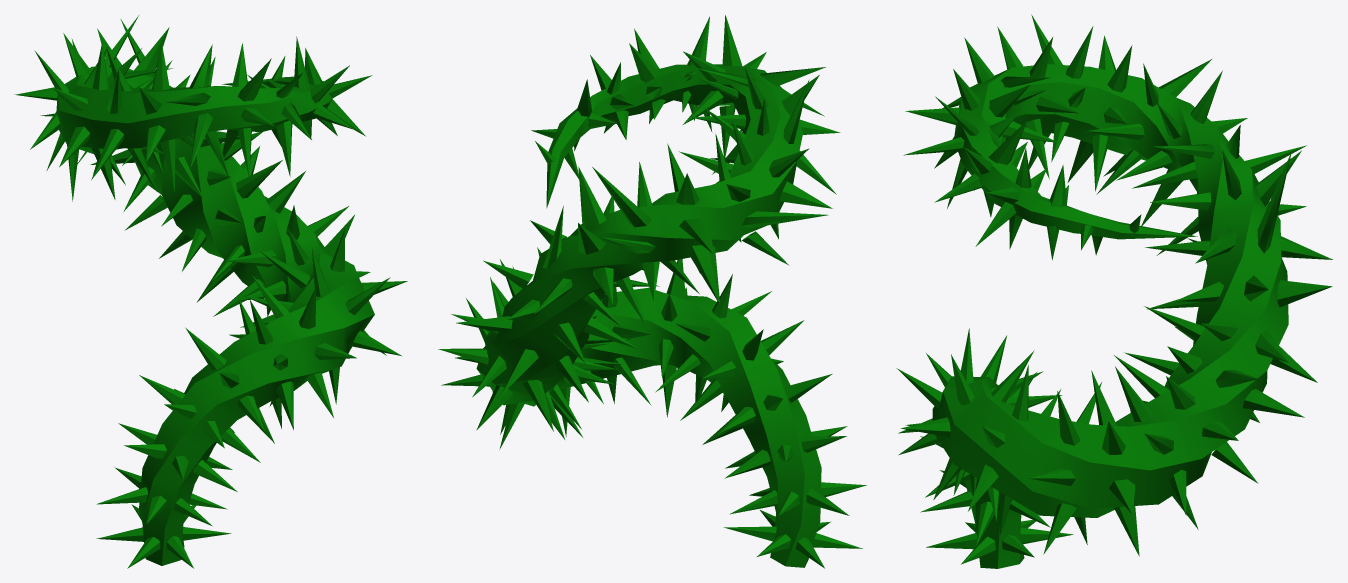
The model's file is Mesh_Espinas_V02.fbx.
3 renders of one model, left to right at view 1: azimuth 30°, elevation 25°; view 2: azimuth 150°, elevation 25°; view 3: azimuth 270°, elevation 25°, orthographic. The views are drawn at different scales.
Parts seen in each view (by area): view 1: Mesh_Tallo_V1, Mesh_Espinas_V1_77, Mesh_Espinas_V1_72, Mesh_Espinas_V1_26, Mesh_Espinas_V1_142, Mesh_Espinas_V1_130, Mesh_Espinas_V1_100, Mesh_Espinas_V1_54, Mesh_Espinas_V1_155, Mesh_Espinas_V1_34, Mesh_Espinas_V1_147; view 2: Mesh_Tallo_V1, Mesh_Espinas_V1_113, Mesh_Espinas_V1_106, Mesh_Espinas_V1_100, Mesh_Espinas_V1_118, Mesh_Espinas_V1_112, Mesh_Espinas_V1_124, Mesh_Espinas_V1_74, Mesh_Espinas_V1_147, Mesh_Espinas_V1_84, Mesh_Espinas_V1_141, Mesh_Espinas_V1_129 (+1 smaller); view 3: Mesh_Tallo_V1, Mesh_Espinas_V1_95, Mesh_Espinas_V1_90, Mesh_Espinas_V1_73, Mesh_Espinas_V1_66, Mesh_Espinas_V1_101, Mesh_Espinas_V1_99, Mesh_Espinas_V1_104, Mesh_Espinas_V1_159, Mesh_Espinas_V1_49, Mesh_Espinas_V1_37, Mesh_Espinas_V1_96 (+15 smaller).
Boxes of the visible parts, bbox=[...] form: Mesh_Tallo_V1: bbox=[56, 66, 374, 565]; Mesh_Espinas_V1_77: bbox=[236, 160, 282, 198]; Mesh_Espinas_V1_72: bbox=[266, 171, 305, 213]; Mesh_Espinas_V1_26: bbox=[185, 327, 226, 370]; Mesh_Espinas_V1_142: bbox=[190, 113, 212, 167]; Mesh_Espinas_V1_130: bbox=[91, 129, 124, 180]; Mesh_Espinas_V1_100: bbox=[134, 27, 169, 76]; Mesh_Espinas_V1_54: bbox=[260, 251, 310, 288]; Mesh_Espinas_V1_155: bbox=[276, 120, 292, 176]; Mesh_Espinas_V1_34: bbox=[276, 381, 293, 430]; Mesh_Espinas_V1_147: bbox=[237, 58, 271, 101]; Mesh_Tallo_V1: bbox=[476, 64, 821, 567]; Mesh_Espinas_V1_113: bbox=[686, 245, 720, 304]; Mesh_Espinas_V1_106: bbox=[592, 167, 651, 227]; Mesh_Espinas_V1_100: bbox=[578, 166, 606, 227]; Mesh_Espinas_V1_118: bbox=[742, 211, 828, 228]; Mesh_Espinas_V1_112: bbox=[679, 219, 713, 253]; Mesh_Espinas_V1_124: bbox=[779, 181, 832, 208]; Mesh_Espinas_V1_74: bbox=[523, 380, 553, 431]; Mesh_Espinas_V1_147: bbox=[722, 15, 742, 66]; Mesh_Espinas_V1_84: bbox=[456, 316, 512, 333]; Mesh_Espinas_V1_141: bbox=[760, 67, 825, 86]; Mesh_Espinas_V1_129: bbox=[783, 79, 809, 143]; Mesh_Tallo_V1: bbox=[932, 64, 1288, 568]; Mesh_Espinas_V1_95: bbox=[1257, 151, 1291, 253]; Mesh_Espinas_V1_90: bbox=[1277, 280, 1332, 307]; Mesh_Espinas_V1_73: bbox=[1243, 389, 1304, 417]; Mesh_Espinas_V1_66: bbox=[1115, 366, 1152, 422]; Mesh_Espinas_V1_101: bbox=[1256, 150, 1301, 206]; Mesh_Espinas_V1_99: bbox=[1150, 192, 1211, 210]; Mesh_Espinas_V1_104: bbox=[1132, 161, 1197, 188]; Mesh_Espinas_V1_159: bbox=[988, 120, 1027, 164]; Mesh_Espinas_V1_49: bbox=[1057, 391, 1080, 445]; Mesh_Espinas_V1_37: bbox=[991, 350, 1034, 402]; Mesh_Espinas_V1_96: bbox=[1281, 236, 1332, 259].
Size of the model in its own units: 2339 by 3138 by 2284.
